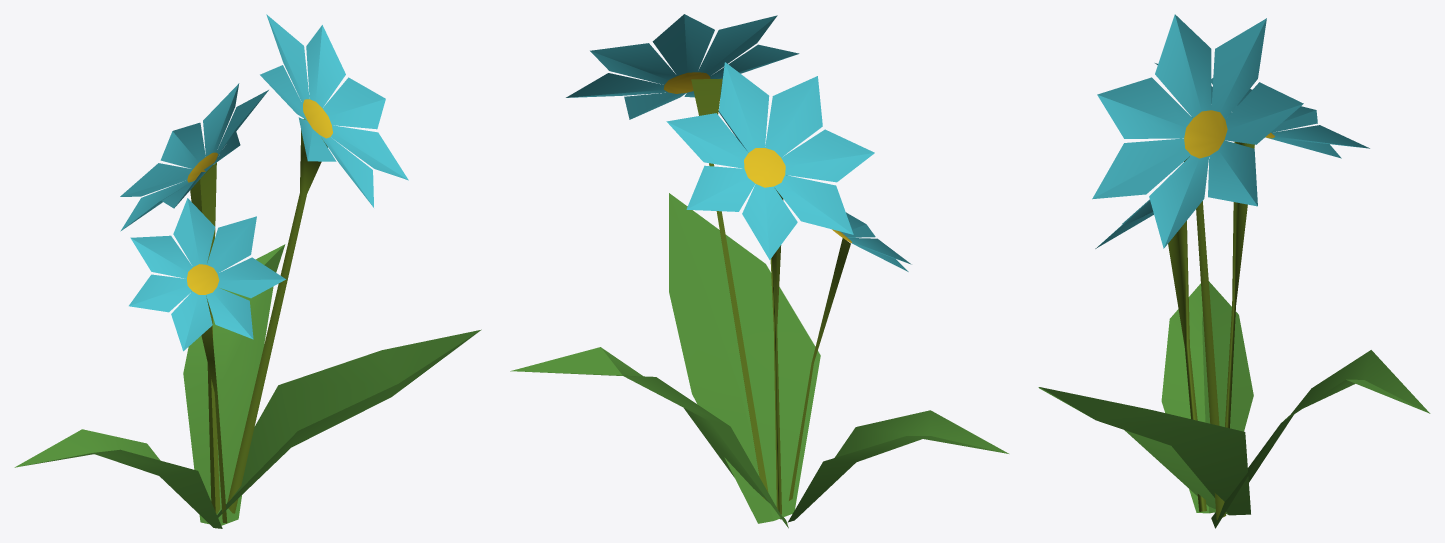
File: Flowers_02.fbx
3 renders of one model, left to right at view 1: azimuth 30°, elevation 25°; view 2: azimuth 150°, elevation 25°; view 3: azimuth 270°, elevation 25°, orthographic. The views are drawn at different scales.
Visible parts, largest first — view 1: Flowers_02; view 2: Flowers_02; view 3: Flowers_02.
Part boxes in pixels (<box>): Flowers_02: <box>14,14,481,528</box>; Flowers_02: <box>510,14,1008,528</box>; Flowers_02: <box>1038,14,1430,528</box>.
Size of the model in its own units: 0.3112 by 0.2366 by 0.3591.
